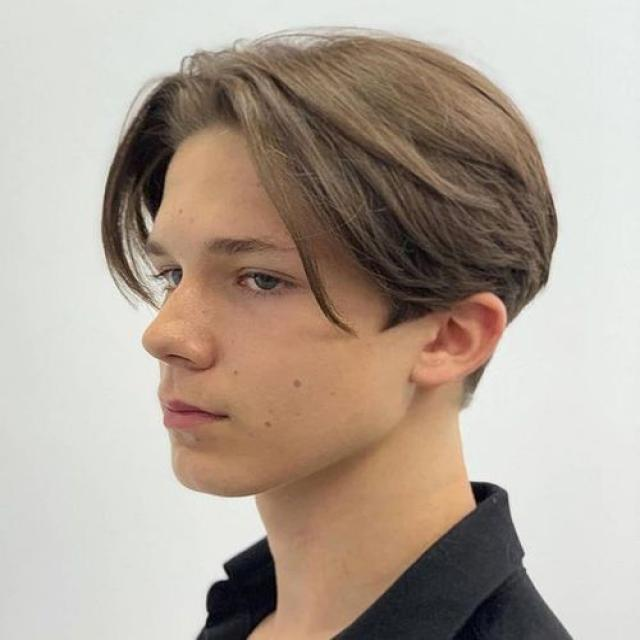Nonhelmet: (96, 17, 564, 502)
